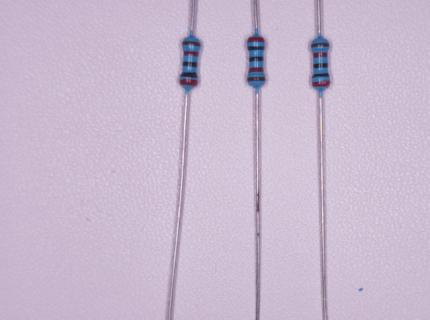Black band: (249, 55, 264, 63), (182, 61, 199, 68), (247, 45, 265, 51), (180, 72, 198, 78), (313, 63, 328, 69), (313, 73, 330, 78)
Brown band: (181, 41, 202, 47), (311, 42, 330, 48), (247, 77, 265, 82)
Red band: (312, 80, 331, 88), (179, 79, 199, 86), (247, 37, 265, 43), (183, 51, 199, 57), (248, 67, 264, 73), (313, 52, 328, 58)
